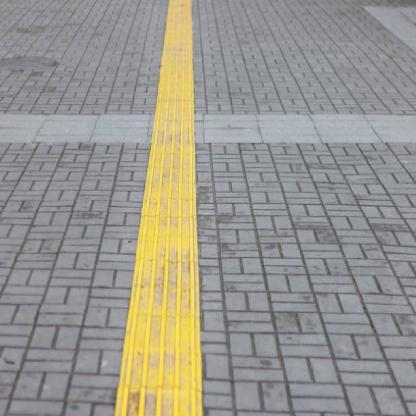podotacti: (115, 0, 202, 416)
